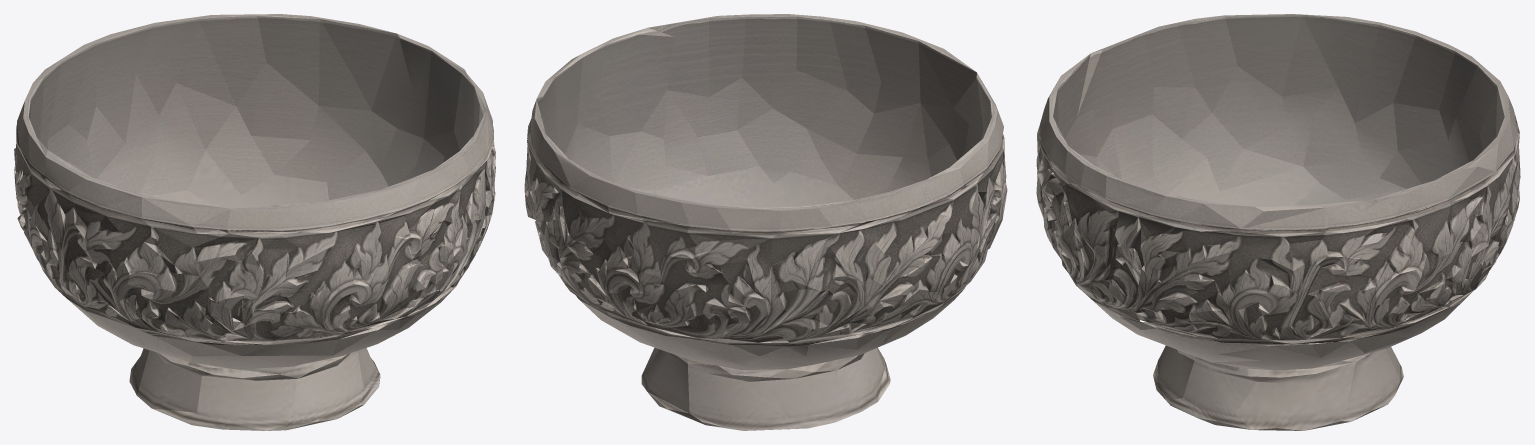
File: e4khannam.glb
3 views of the same model, side by side, from view 1: azimuth 30°, elevation 25°; view 2: azimuth 150°, elevation 25°; view 3: azimuth 270°, elevation 25° (orthographic).
Visible parts, largest first — view 1: output_unwrapped; view 2: output_unwrapped; view 3: output_unwrapped.
Part boxes in pixels (<box>): output_unwrapped: <box>14,14,495,430</box>; output_unwrapped: <box>524,14,1007,430</box>; output_unwrapped: <box>1036,14,1520,430</box>.
Size of the model in its own units: 0.22 by 0.1356 by 0.2199.
1 material, 1 textured.
